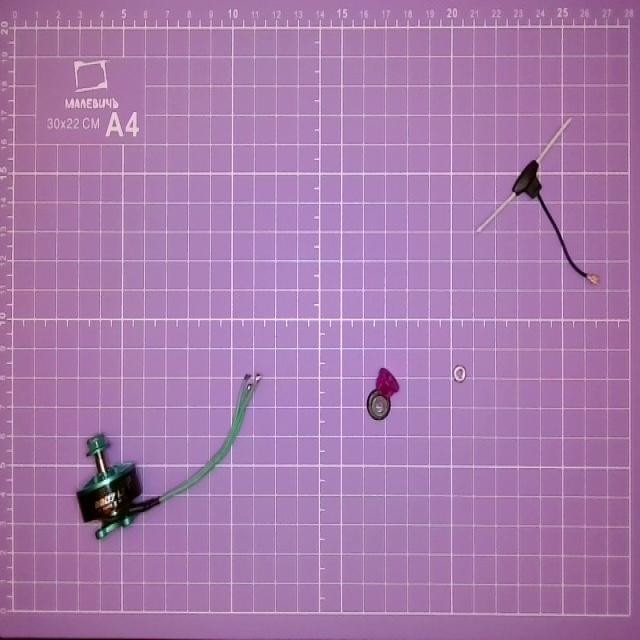antenna: (476, 120, 612, 290)
motor: (75, 364, 262, 538)
screw_M3: (451, 364, 469, 385)
screw_M5: (374, 364, 402, 401), (364, 389, 392, 421)
